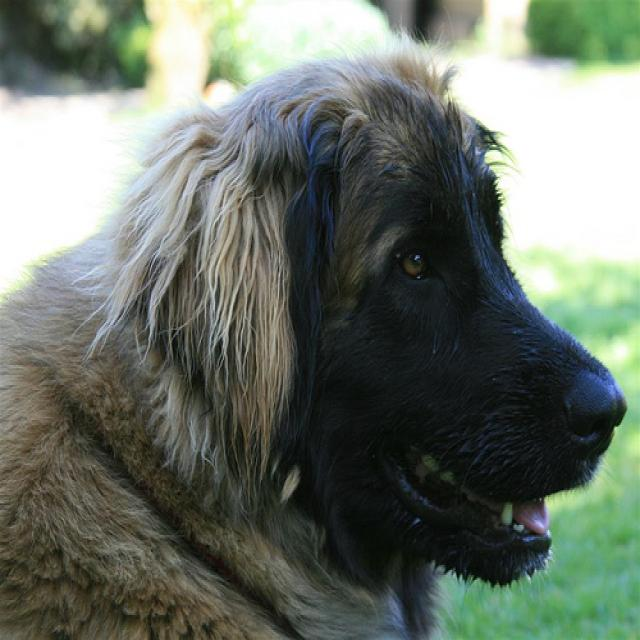dog-leonberger: (1, 42, 632, 637)
